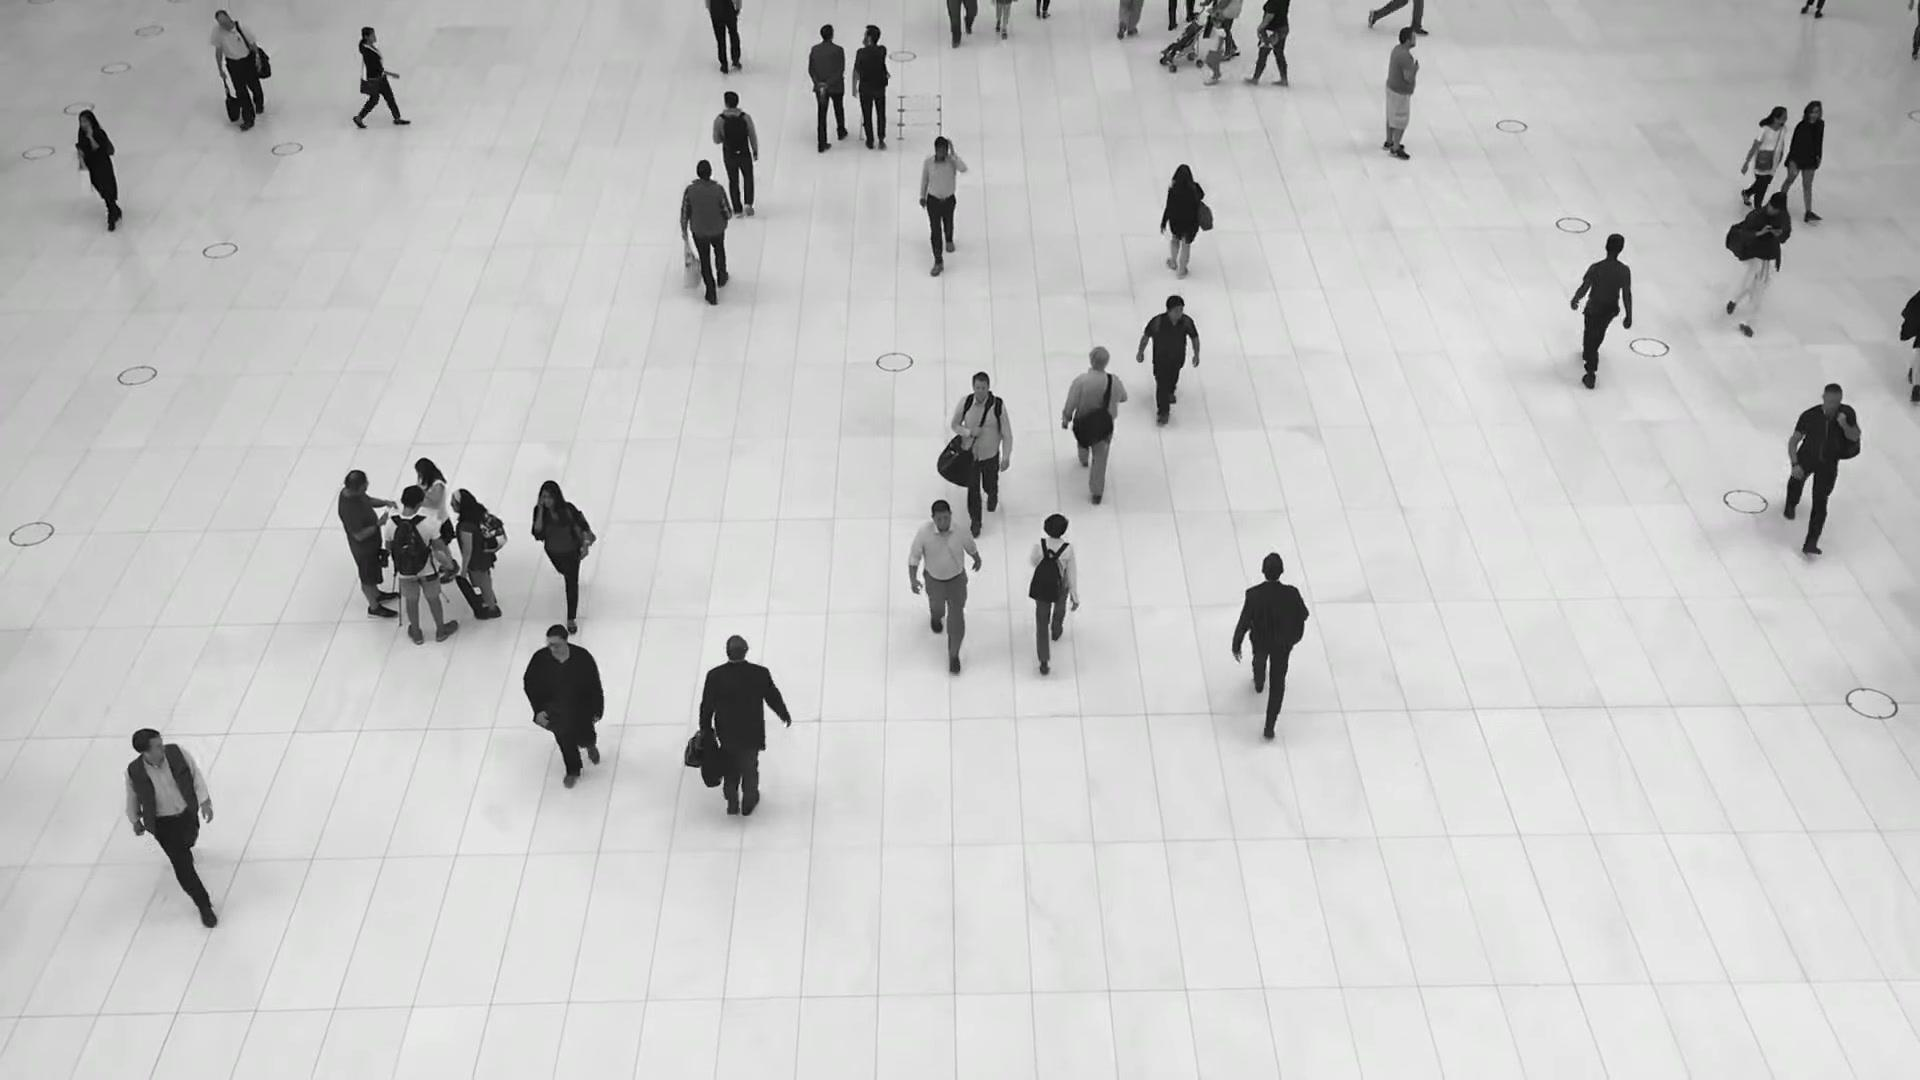person: (124, 722, 216, 919), (703, 638, 781, 844), (527, 626, 608, 804), (1782, 380, 1865, 545), (1232, 548, 1311, 721), (909, 496, 983, 663), (383, 485, 458, 646), (952, 374, 1014, 547), (1062, 344, 1127, 498), (531, 477, 598, 626), (1725, 192, 1791, 340), (338, 469, 400, 621), (1571, 232, 1632, 383), (1027, 510, 1079, 664), (682, 160, 733, 307), (1143, 292, 1199, 418), (450, 488, 502, 620), (915, 133, 966, 268), (209, 7, 265, 128), (714, 94, 763, 226), (1161, 165, 1213, 280), (414, 458, 459, 584), (76, 109, 123, 232), (808, 23, 850, 151), (1781, 100, 1826, 220), (1383, 26, 1421, 160), (357, 25, 405, 128), (854, 25, 891, 154), (1743, 105, 1788, 209), (1250, 0, 1297, 90), (1198, 17, 1229, 86)
